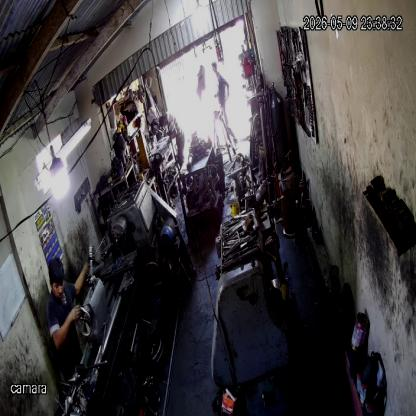sin_lentes: (53, 280, 64, 291)
